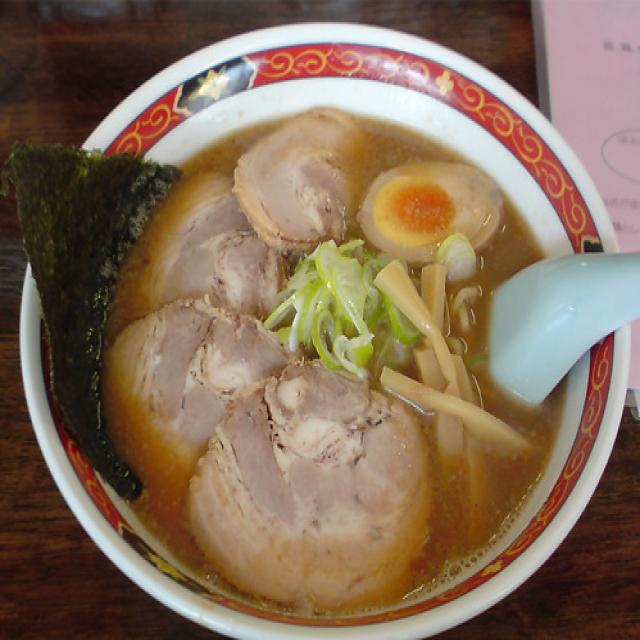面条主食: (73, 87, 575, 611)
